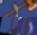axe: (0, 0, 18, 17)
bow: (18, 17, 37, 35)
